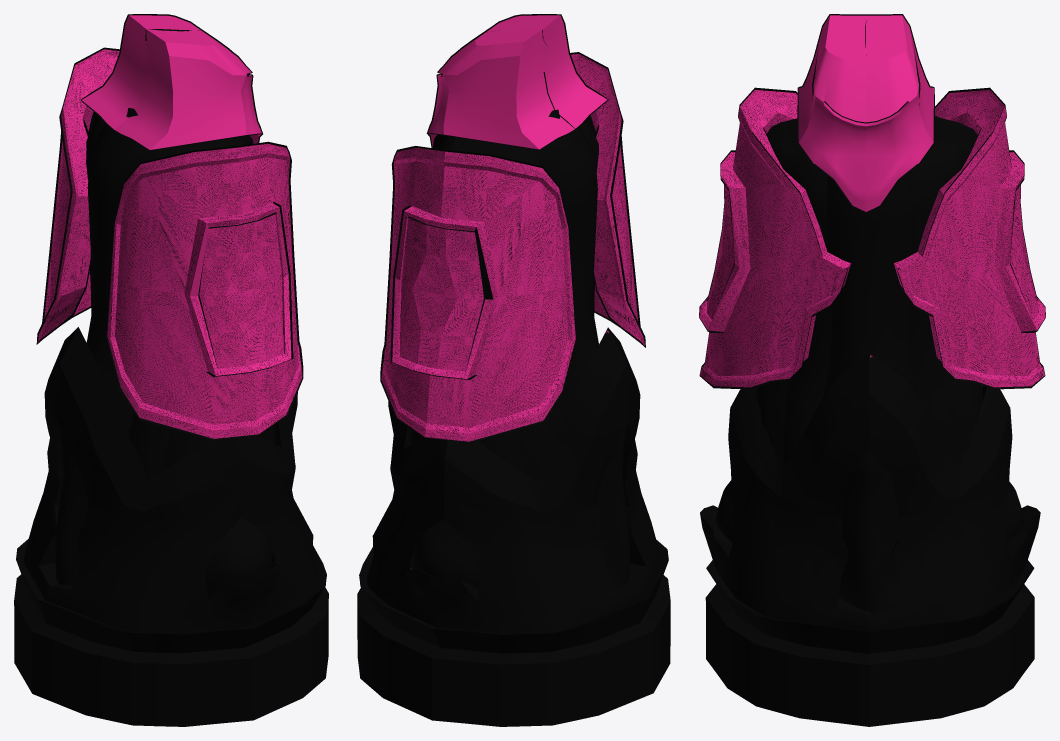
Rendered from NOPE.fbx.
The picture shows the model from 3 angles, left to right: view 1: azimuth 30°, elevation 25°; view 2: azimuth 150°, elevation 25°; view 3: azimuth 270°, elevation 25°; orthographic projection.
Parts seen in each view (by area): view 1: Base-out, Side, Side-out, Body-out, Helm, Helm-out; view 2: Base-out, Side, Side-out, Body-out, Helm, Helm-out; view 3: Base-out, Side, Body-out, Helm, Side-out, Helm-out.
Part boxes in pixels (box(x1,y1,x2,y2)): Base-out: box(14, 327, 328, 726); Side: box(37, 49, 302, 438); Side-out: box(36, 47, 303, 440); Body-out: box(55, 108, 275, 587); Helm: box(82, 15, 261, 149); Helm-out: box(80, 14, 262, 150); Base-out: box(357, 327, 670, 726); Side: box(381, 53, 644, 441); Side-out: box(380, 52, 645, 443); Body-out: box(411, 109, 630, 588); Helm: box(428, 15, 607, 149); Helm-out: box(426, 14, 608, 149); Base-out: box(700, 353, 1040, 726); Side: box(699, 90, 1045, 387); Body-out: box(715, 115, 1023, 611); Helm: box(798, 15, 933, 211); Side-out: box(699, 87, 1045, 389); Helm-out: box(797, 14, 934, 213).
Bounding box in the file's own units: 118 × 258 × 128.
